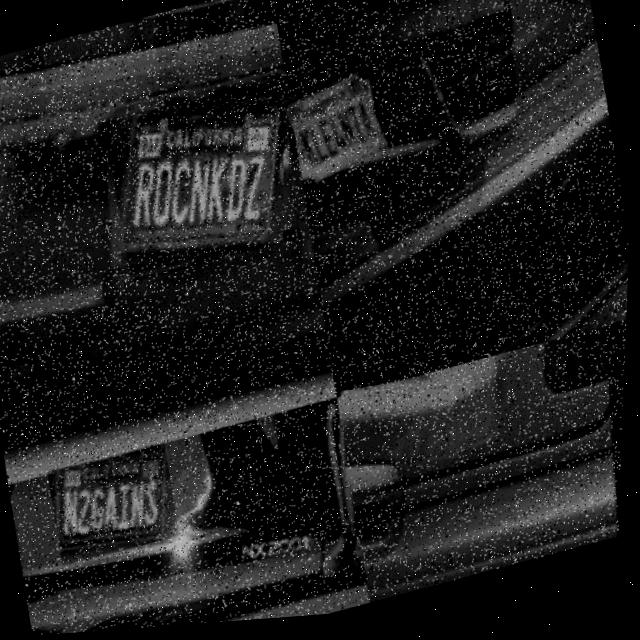LicensePlate: (102, 82, 308, 287), (335, 371, 473, 500), (48, 443, 187, 569), (285, 77, 390, 188)
